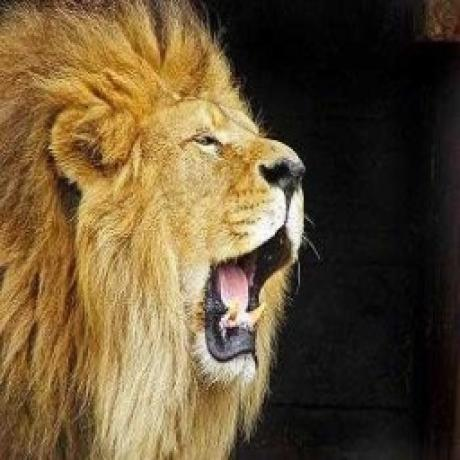Lion: (0, 0, 313, 460)
